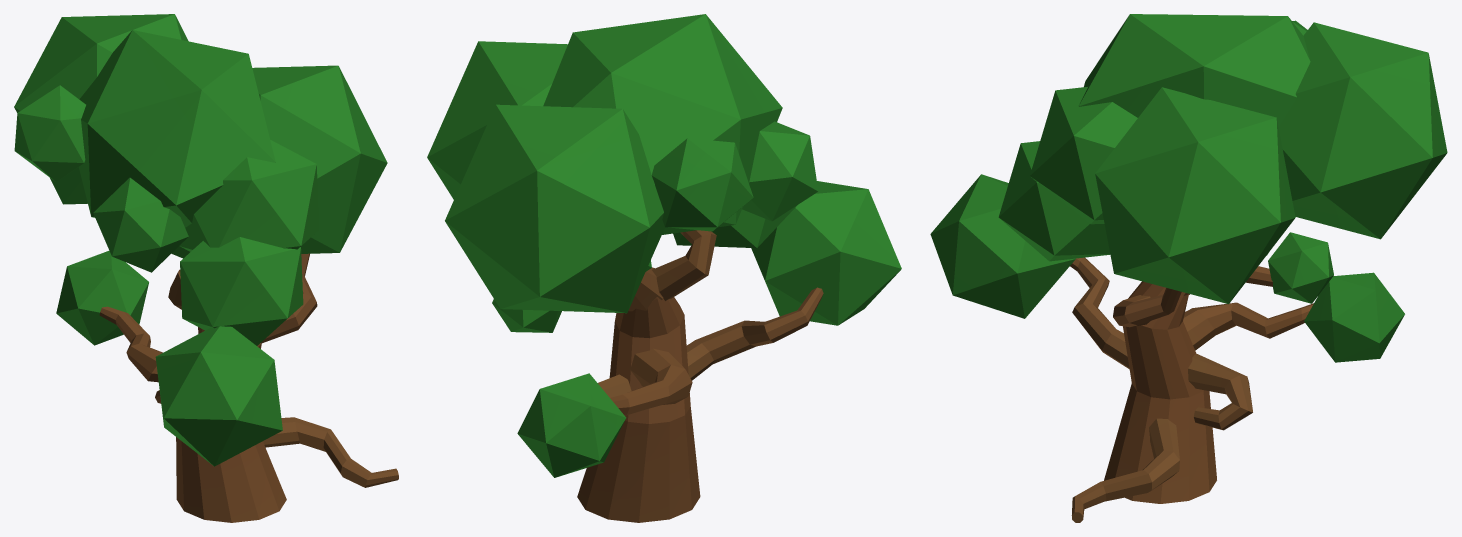
The model's file is OakTreePalitra.fbx.
3 views of the same model, side by side, from view 1: azimuth 30°, elevation 25°; view 2: azimuth 150°, elevation 25°; view 3: azimuth 270°, elevation 25° (orthographic). The views are drawn at different scales.
Parts seen in each view (by area): view 1: Icosphere.009, Icosphere.005, Icosphere.001, Icosphere.006, Icosphere.008, Icosphere.003, Cylinder, Icosphere.004, Icosphere.010, Icosphere.011, Cylinder.001, Cylinder.004 (+1 smaller); view 2: Icosphere.003, Icosphere.009, Cylinder, Icosphere.001, Icosphere.005, Icosphere.004, Icosphere.011, Icosphere.010, Cylinder.002, Cylinder.004, Cylinder.007, Icosphere.006 (+2 smaller); view 3: Icosphere.005, Icosphere.003, Icosphere.009, Cylinder, Icosphere.001, Icosphere.008, Icosphere.004, Icosphere.006, Cylinder.001, Icosphere, Cylinder.004, Cylinder.006 (+2 smaller).
Part boxes in pixels (x1,y1,x2,y2): Icosphere.009: (79, 30, 275, 227); Icosphere.005: (252, 65, 387, 253); Icosphere.001: (155, 326, 282, 466); Icosphere.006: (180, 237, 303, 345); Icosphere.008: (179, 140, 319, 251); Icosphere.003: (14, 14, 188, 204); Cylinder: (176, 327, 286, 522); Icosphere.004: (56, 250, 148, 345); Icosphere.010: (93, 177, 188, 272); Icosphere.011: (14, 85, 85, 181); Cylinder.001: (263, 417, 398, 487); Cylinder.004: (99, 306, 162, 382); Icosphere.003: (445, 104, 664, 313); Icosphere.009: (543, 14, 782, 234); Cylinder: (577, 267, 700, 522); Icosphere.001: (751, 181, 901, 325); Icosphere.005: (427, 41, 567, 199); Icosphere.004: (517, 373, 626, 477); Icosphere.011: (651, 138, 753, 231); Icosphere.010: (742, 121, 818, 221); Cylinder.002: (686, 287, 823, 380); Cylinder.004: (610, 348, 692, 415); Cylinder.007: (652, 230, 716, 300); Icosphere.006: (673, 205, 797, 248); Icosphere.005: (1095, 87, 1295, 304); Icosphere.003: (1278, 22, 1447, 239); Icosphere.009: (1078, 14, 1310, 126); Cylinder: (1104, 281, 1216, 503); Icosphere.001: (930, 174, 1075, 318); Icosphere.008: (1030, 87, 1137, 224); Icosphere.004: (1304, 272, 1404, 362); Icosphere.006: (998, 141, 1110, 261); Cylinder.001: (1071, 418, 1179, 522); Icosphere: (1268, 232, 1333, 303); Cylinder.004: (1183, 302, 1313, 350); Cylinder.006: (1188, 354, 1252, 430).
Size of the model in its own units: 20.48 by 27.24 by 28.67.
